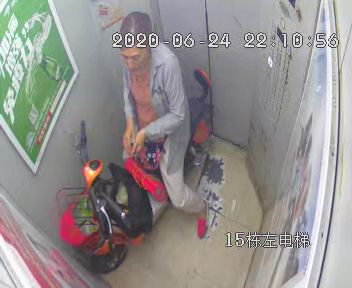Electric-bicycle: (62, 70, 207, 272)
